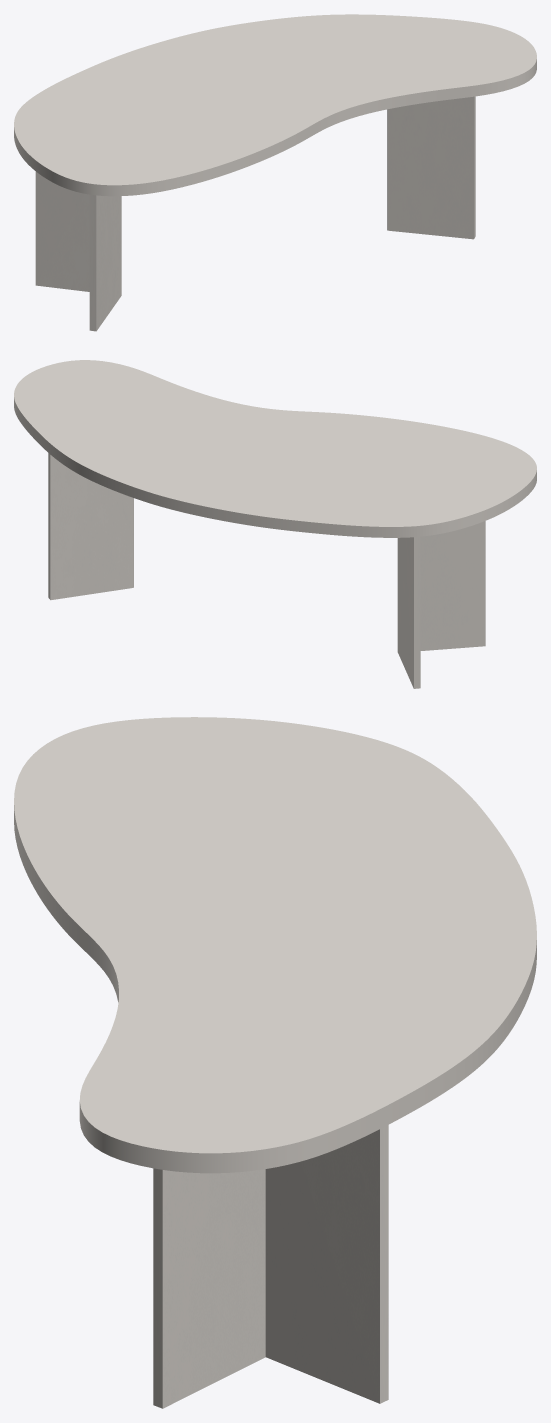
File: pearlwhite_leaf1_standard_valleyv.glb
3 views of the same model, one above another, from view 1: azimuth 30°, elevation 25°; view 2: azimuth 150°, elevation 25°; view 3: azimuth 270°, elevation 25° (orthographic). The views are drawn at different scales.
Visible parts, largest first — view 1: standard_leaf1, valleyv; view 2: standard_leaf1, valleyv; view 3: standard_leaf1, valleyv.
Boxes of the visible parts, x1=… form: standard_leaf1: x1=14, y1=14, x2=536, y2=196; valleyv: x1=35, y1=96, x2=475, y2=331; standard_leaf1: x1=14, y1=360, x2=536, y2=537; valleyv: x1=48, y1=453, x2=485, y2=688; standard_leaf1: x1=14, y1=717, x2=536, y2=1173; valleyv: x1=153, y1=1125, x2=388, y2=1408.
Size of the model in its own units: 7.5 by 2.5 by 3.8.
Materials: 1 (1 with a texture image).
